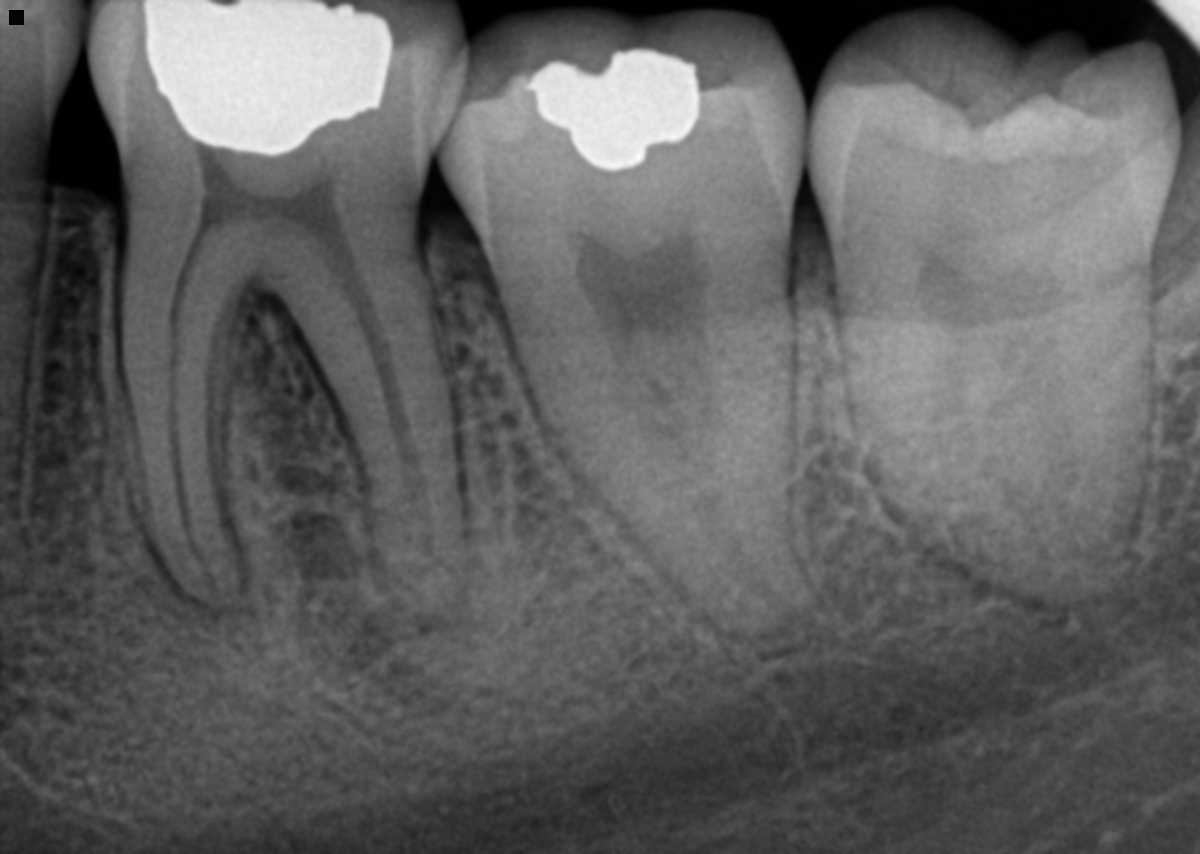Apical Lesion: (291, 515, 495, 719), (149, 569, 273, 653)
Distal Canal: (330, 269, 428, 563)
Distal Root: (268, 236, 468, 618)
Main Canal: (626, 330, 798, 627)
Main Root: (485, 219, 813, 641), (827, 248, 1152, 613), (0, 197, 51, 594)
Mesial Canal: (165, 239, 227, 603)
Mesial Root: (115, 223, 261, 609)
